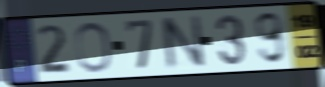2: (38, 22, 74, 77)
3: (214, 13, 247, 67)
7: (124, 18, 157, 71)
9: (252, 10, 289, 66)
N: (157, 13, 208, 73)
O: (73, 20, 114, 75)
